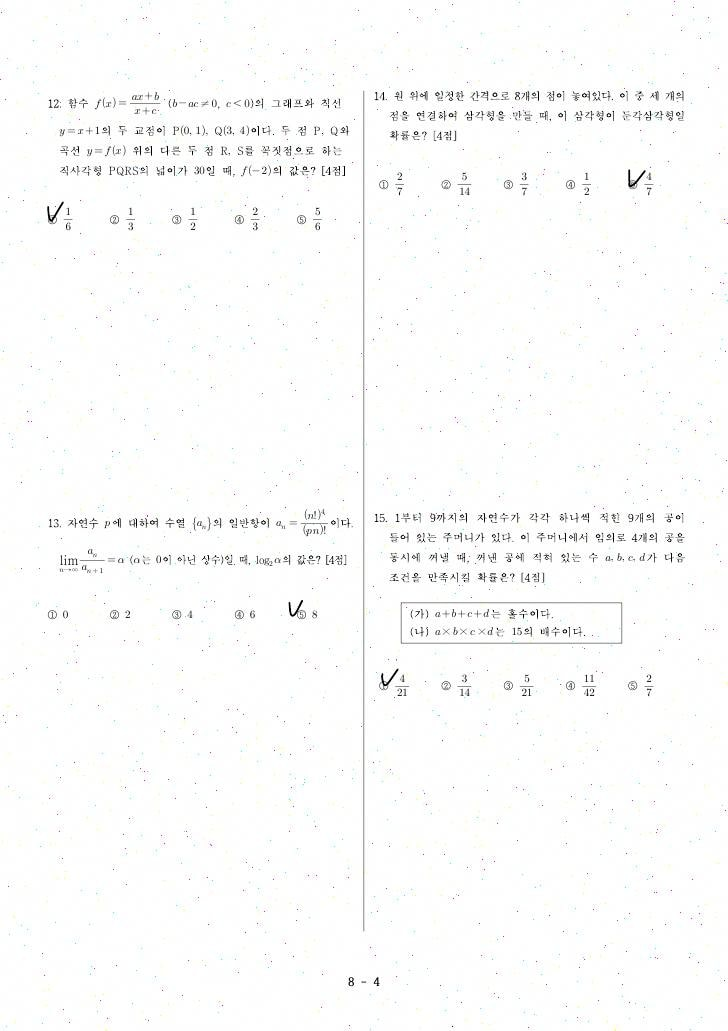question: (365, 503, 694, 714), (30, 83, 354, 246), (364, 82, 697, 214), (27, 505, 360, 634)
